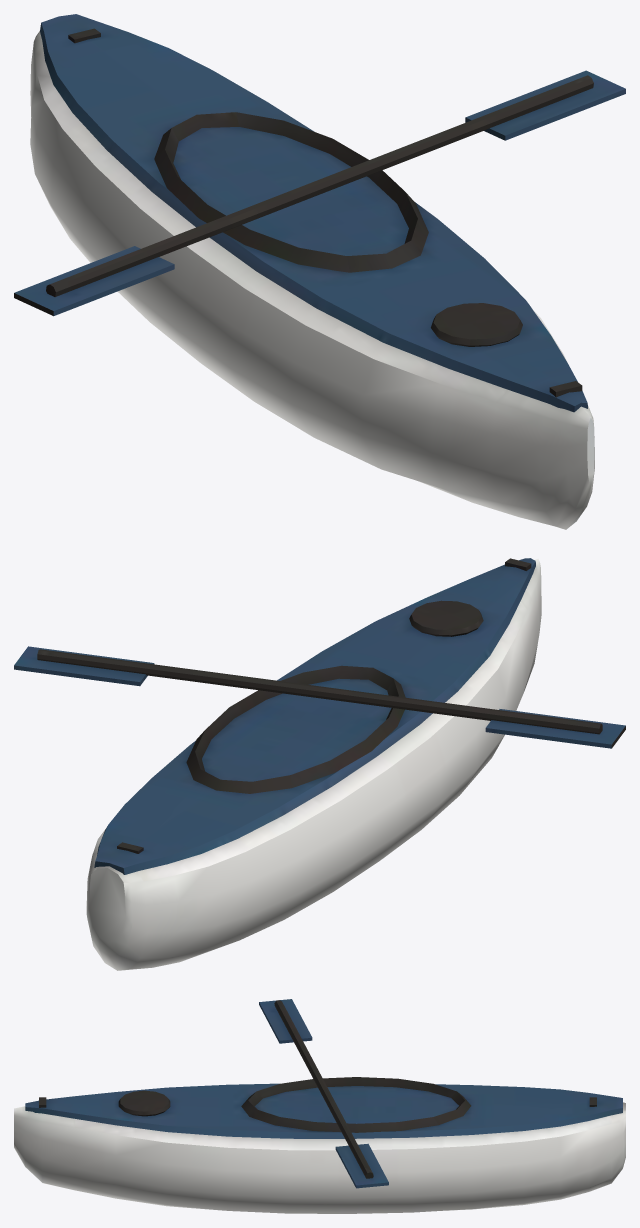
Rendered from kayak.glb.
3 views of the same model, one above another, from view 1: azimuth 30°, elevation 25°; view 2: azimuth 150°, elevation 25°; view 3: azimuth 270°, elevation 25° (orthographic). The views are drawn at different scales.
Parts seen in each view (by area): view 1: kayak; view 2: kayak; view 3: kayak.
Part boxes in pixels (box(x1,y1,x2,y2)): kayak: box(14, 14, 625, 529); kayak: box(14, 558, 625, 970); kayak: box(14, 999, 625, 1213).
Bounding box in the file's own units: 2.16 × 0.6325 × 3.
Materials: 1 (1 with a texture image).
